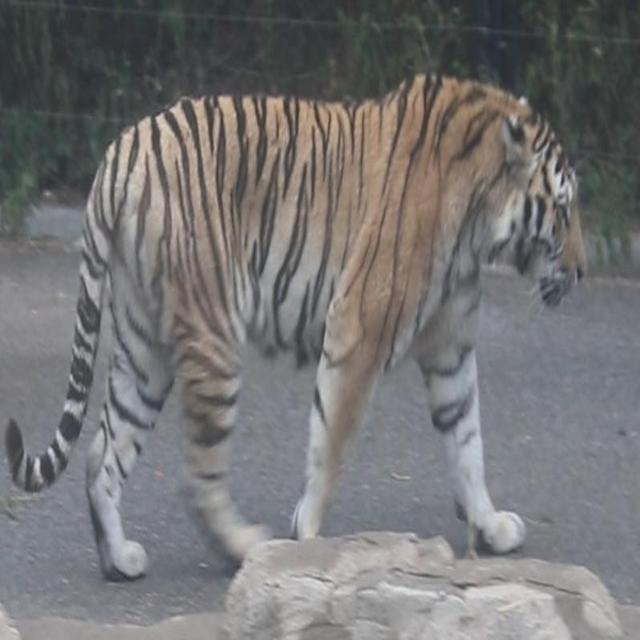tiger: (3, 69, 587, 583)
